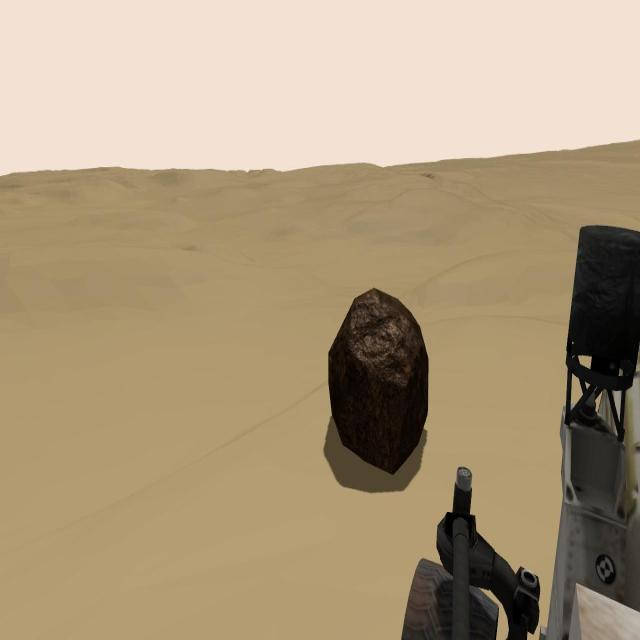rock: (328, 288, 429, 475)
